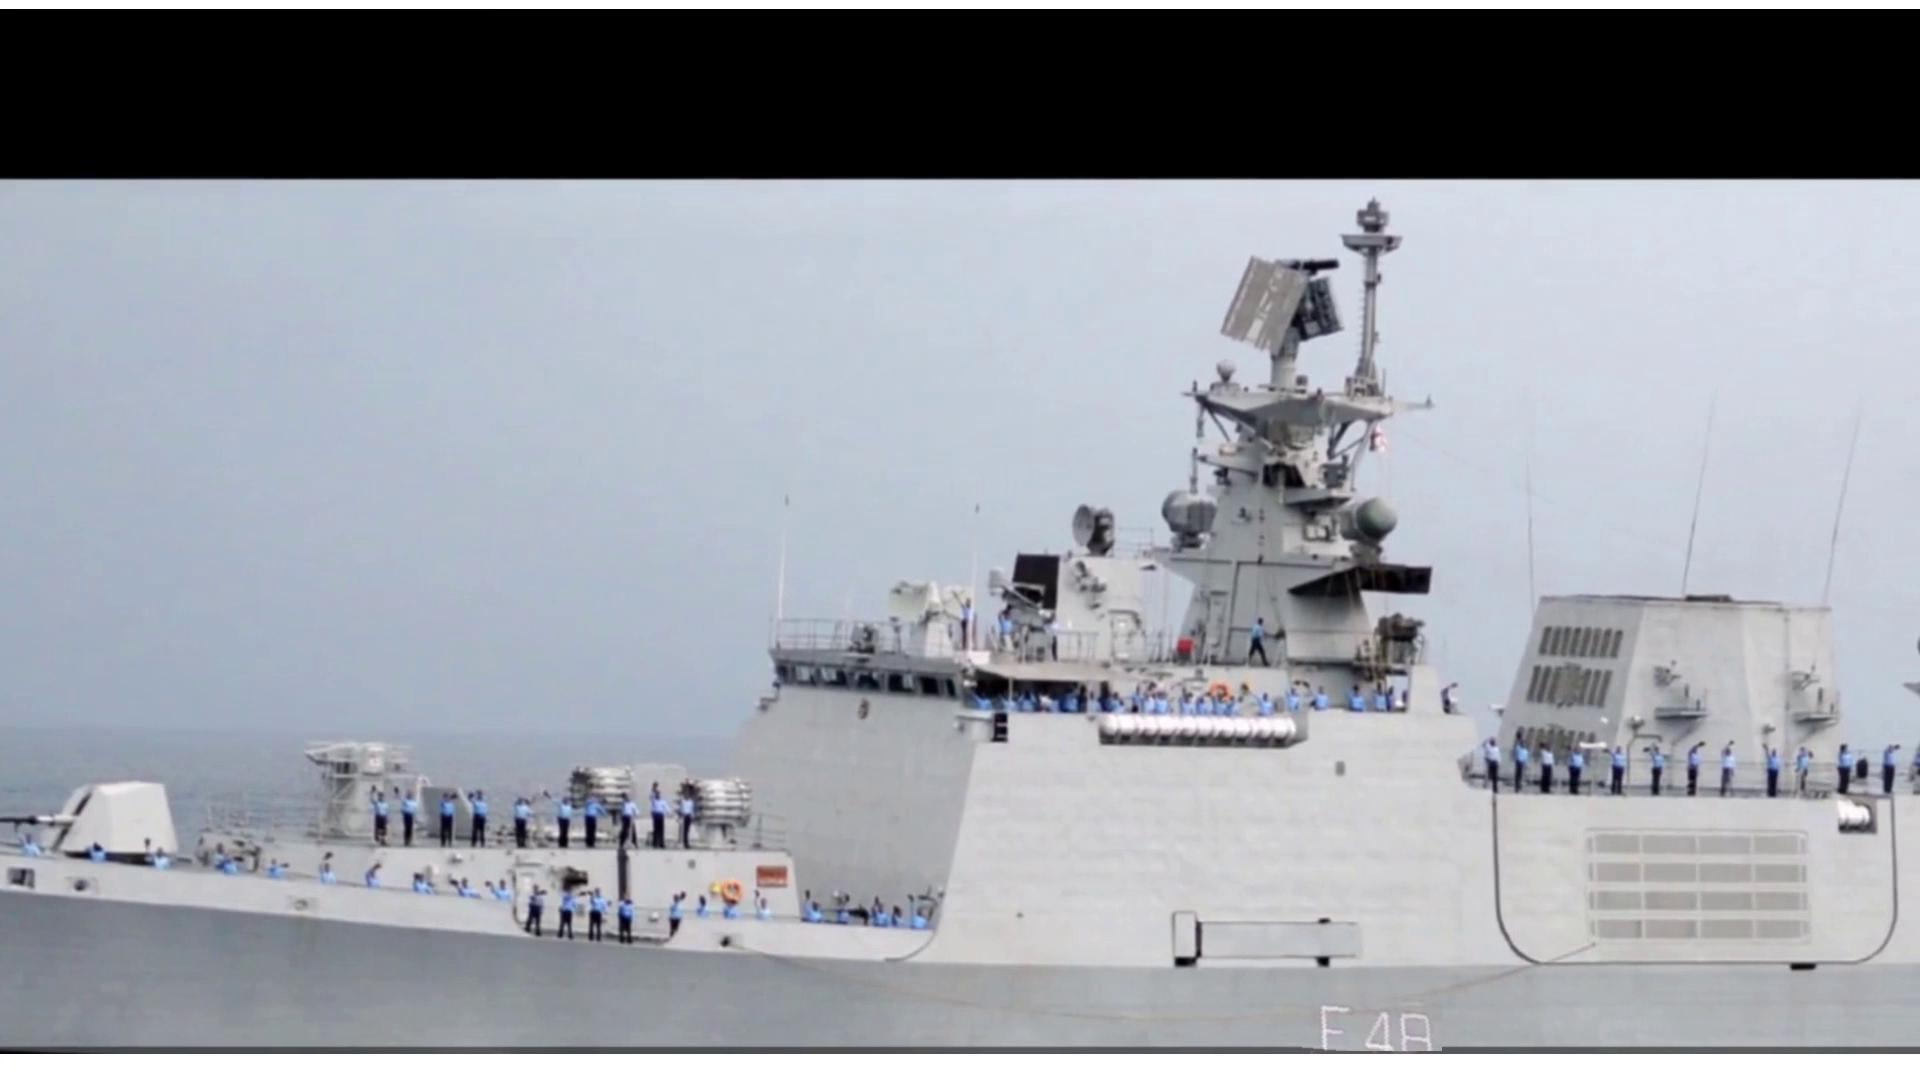OCR: (1284, 989, 1442, 1051)
